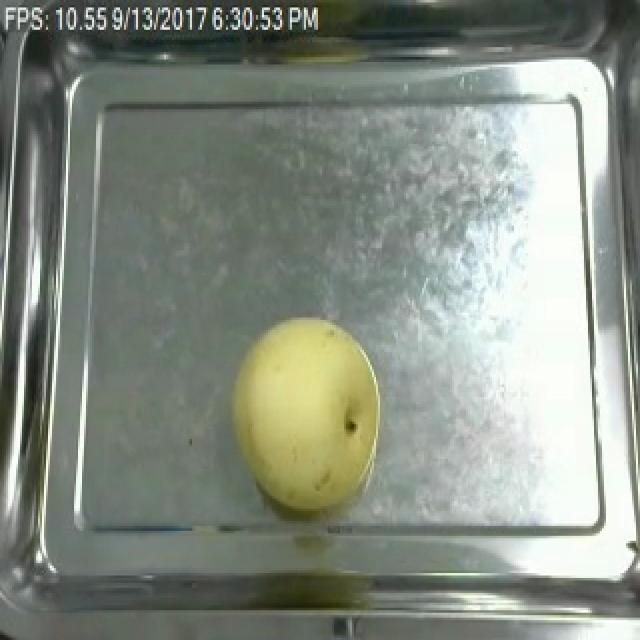Fruit: (218, 308, 392, 516)
